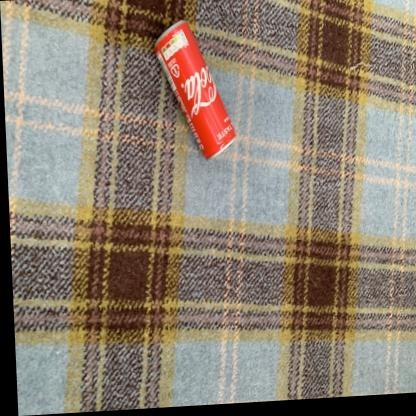trash: (155, 20, 235, 158)
